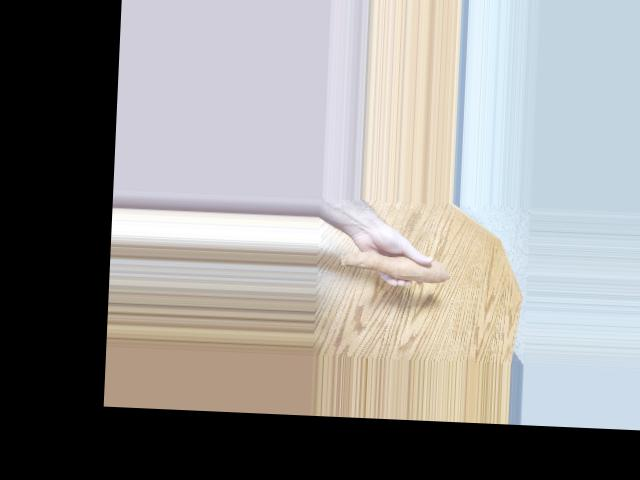sweet_potato: (335, 248, 453, 287)
